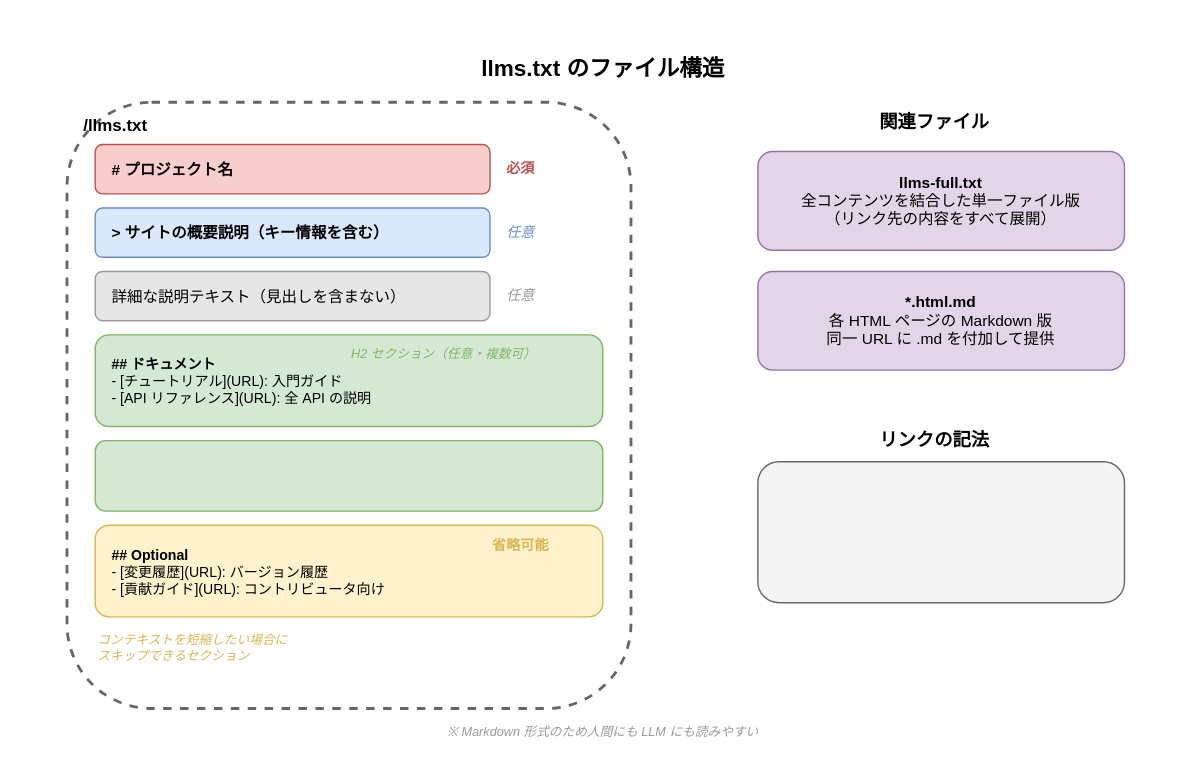
This 1204x781 diagram has some shape labels left out. Here are the shapes that lost their labels. From the top down, the centre of each, then its label:
[348,475]: ## コード例 - [サンプルアプリ](URL): 基本的な実装例
[940,531]: - [名前](URL): 説明 ● 名前 — リンクの表示名（必須） ● URL — コンテンツの場所（必須） ● 説明 — コンテンツの補足（任意）
